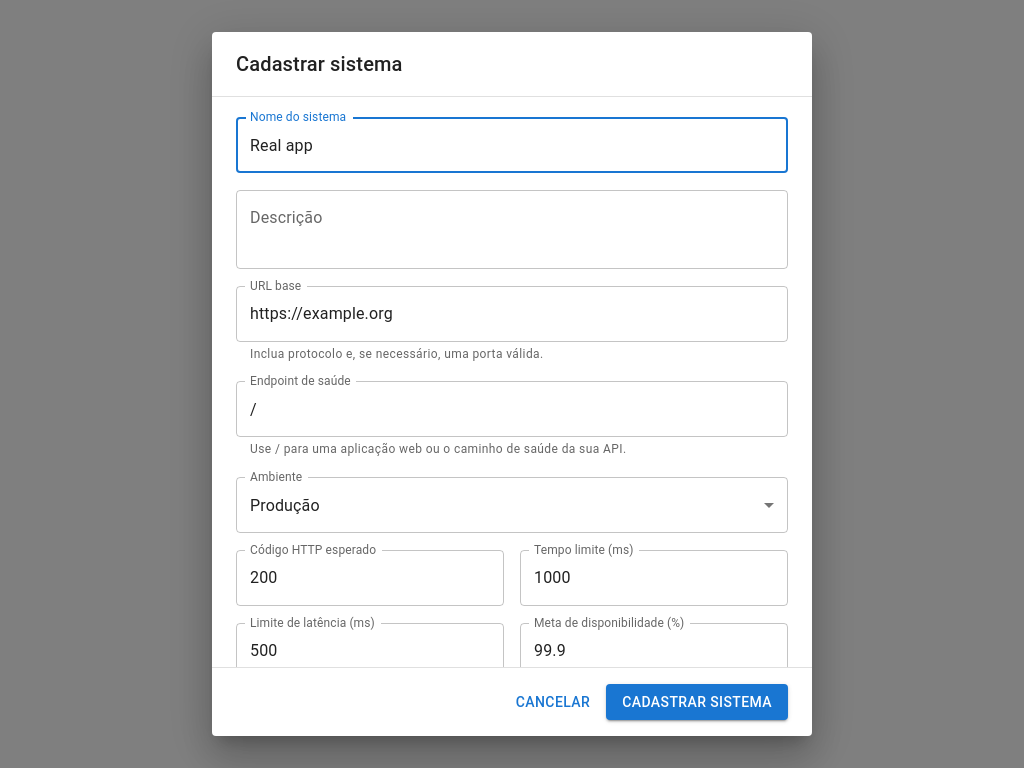
it: System form › renders backend errors in the dialog and restores the submit button
Click the button "Cadastrar sistema" at (697, 702), box [606,684,788,720]
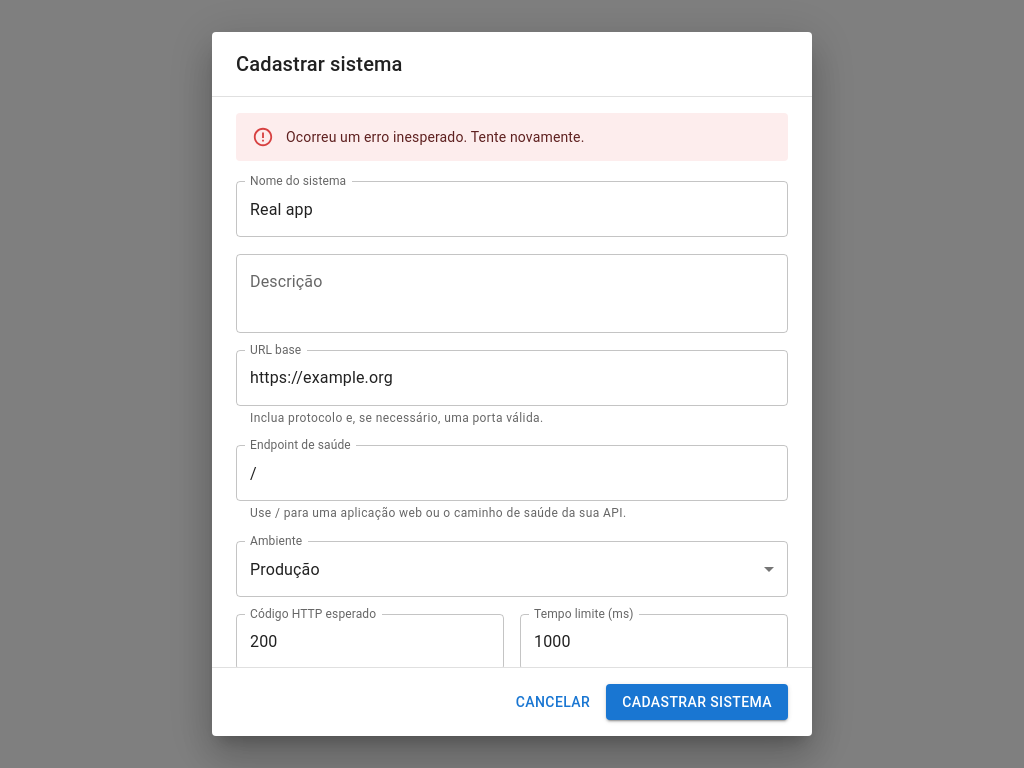
Check: the message "Ocorreu um erro inesperado. Tente novamente." is shown, box [236,113,788,161]
